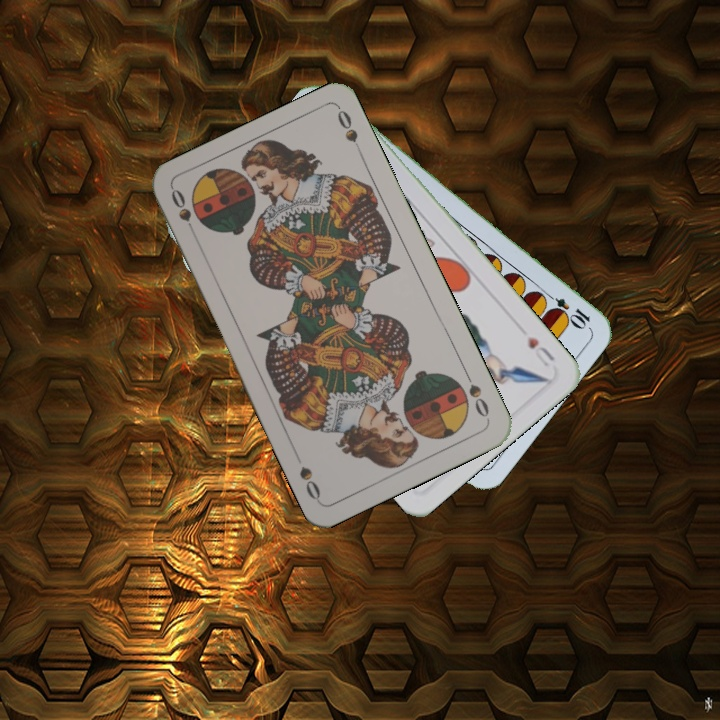E10: (539, 287, 593, 331)
HU: (523, 332, 557, 370)
SO: (167, 185, 200, 240), (460, 367, 492, 423)
